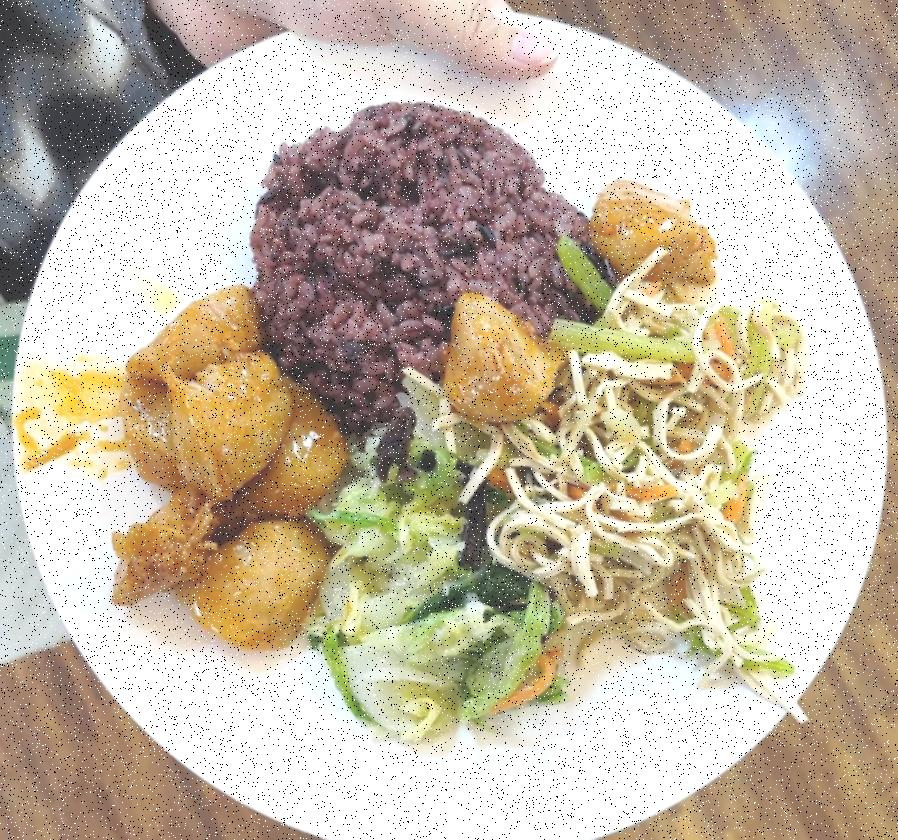big fried chicken leg: (6, 8, 878, 840)
braised fish: (247, 99, 580, 417)
braised fish fillet: (498, 294, 824, 676), (318, 392, 558, 727)
braised pork: (110, 286, 343, 650)
